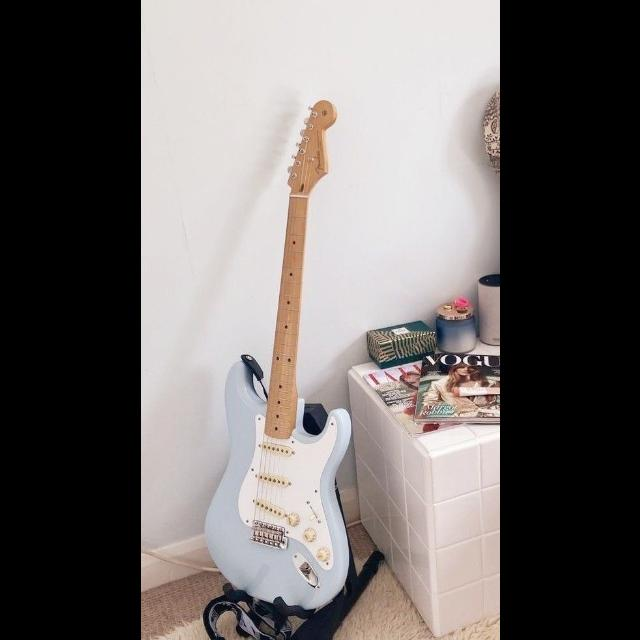Electric-Guitar: (140, 64, 432, 640)
